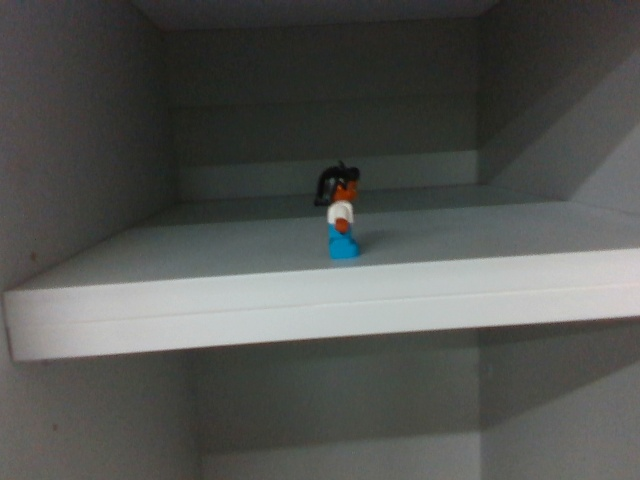people: (316, 159, 360, 263)
